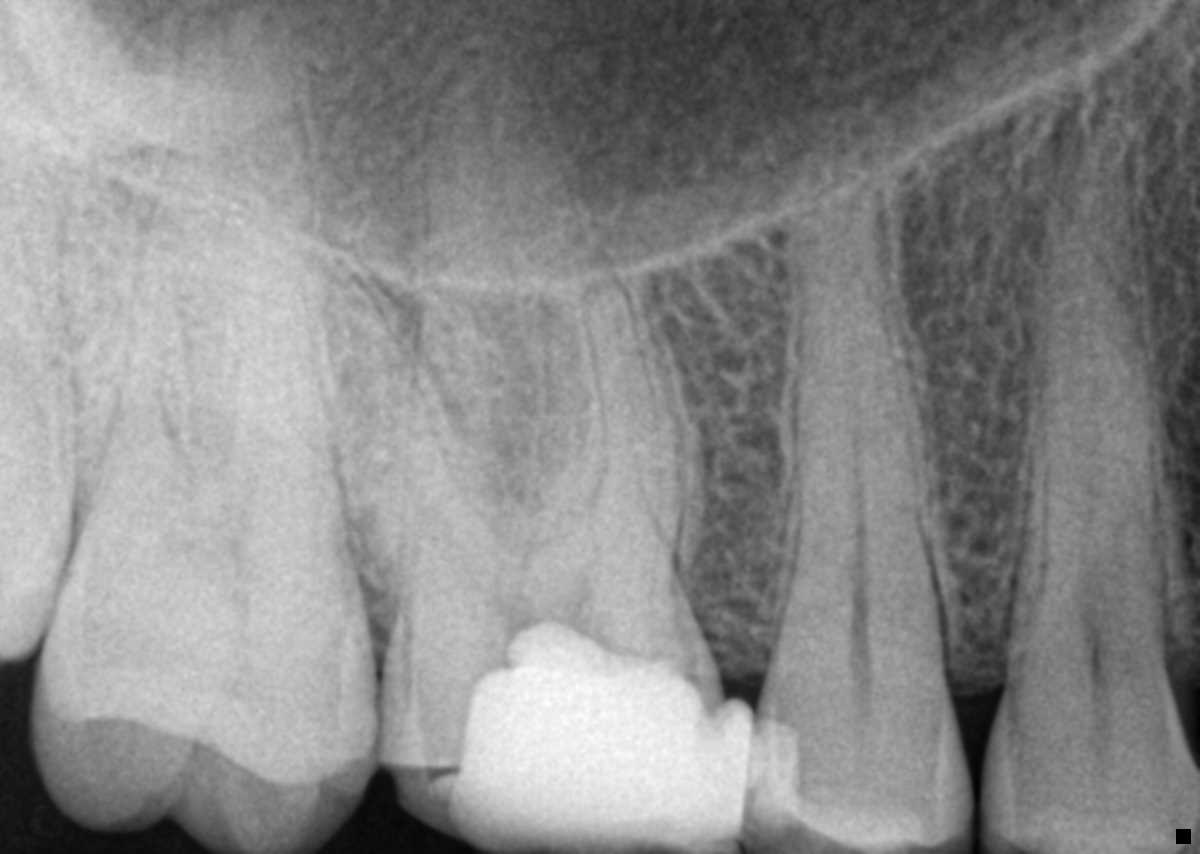Distal Root: (318, 279, 520, 625), (58, 170, 209, 533)
Main Canal: (847, 402, 874, 707), (1077, 416, 1109, 673)
Main Root: (745, 168, 952, 748), (1001, 166, 1171, 702)
Mesial Root: (532, 285, 683, 598), (225, 219, 350, 545)
Palatal Root: (86, 0, 358, 568), (392, 33, 633, 613)
